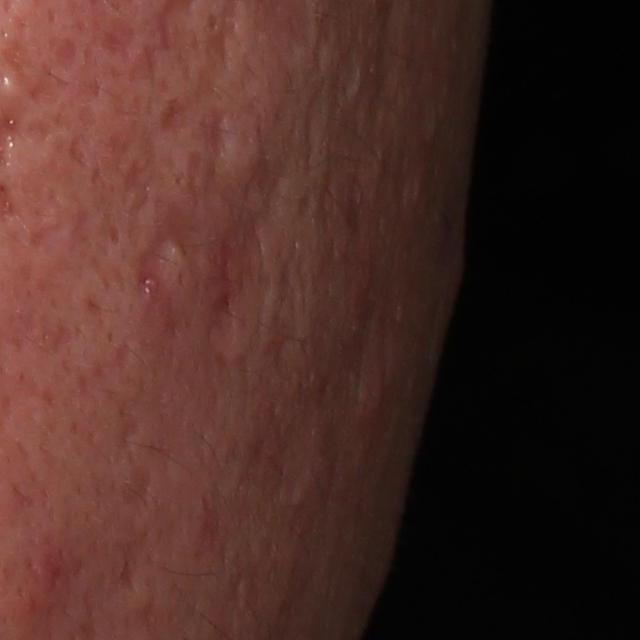atrophic_scar: (133, 149, 224, 300), (206, 214, 274, 365), (1, 44, 67, 112), (240, 134, 278, 207), (196, 109, 232, 153), (51, 34, 83, 74), (66, 131, 90, 166)
